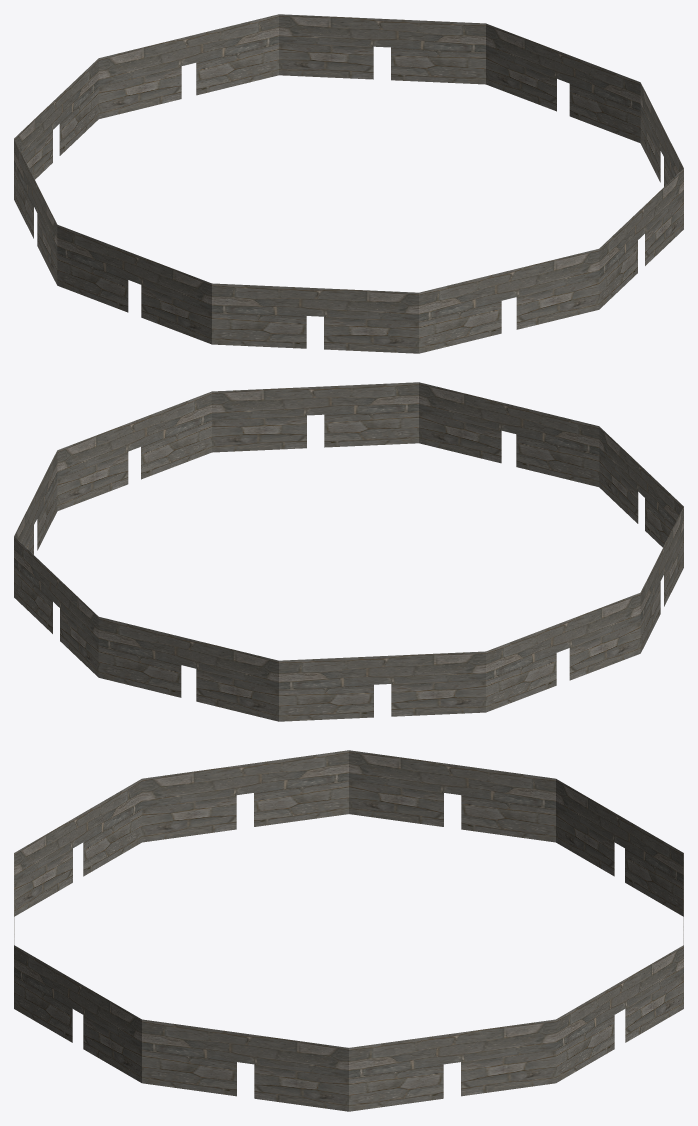
The model's file is muraSalaGrande.fbx.
3 renders of one model, top to bottom at view 1: azimuth 30°, elevation 25°; view 2: azimuth 150°, elevation 25°; view 3: azimuth 270°, elevation 25°, orthographic. The views are drawn at different scales.
Parts seen in each view (by area): view 1: object_99; view 2: object_99; view 3: object_99.
Boxes of the visible parts, box(x1,y1,x2,y2) form: object_99: box(14, 14, 683, 353); object_99: box(14, 382, 683, 721); object_99: box(14, 750, 683, 1111).
Bounding box in the file's own units: 3885 × 388 × 3695.
